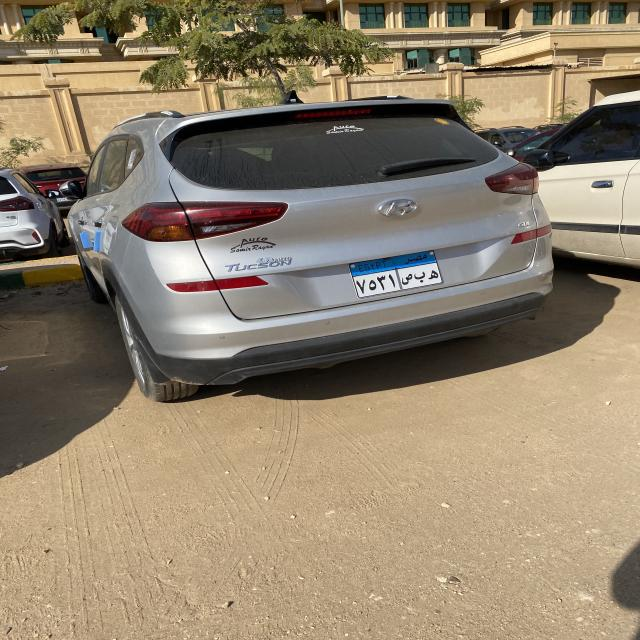License Plate: (349, 250, 443, 298)
